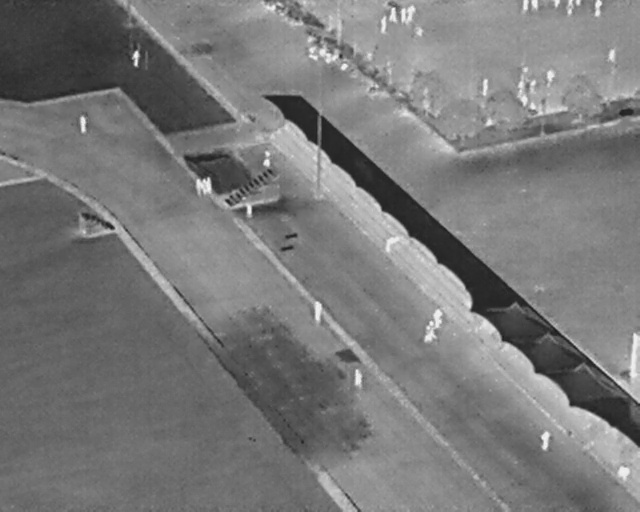DontCare: (304, 33, 351, 72), (514, 63, 539, 109)
Person: (313, 299, 323, 324), (541, 429, 551, 451), (433, 306, 443, 328), (428, 319, 438, 339), (354, 367, 363, 388), (407, 3, 416, 23), (262, 148, 271, 167), (547, 66, 556, 85), (607, 47, 616, 64), (594, 0, 603, 17), (132, 48, 140, 67), (566, 0, 574, 16), (80, 114, 87, 132), (390, 6, 397, 23), (196, 177, 202, 196), (381, 15, 387, 34), (482, 77, 488, 96), (246, 201, 253, 217), (425, 325, 431, 342), (400, 6, 406, 23), (207, 176, 212, 193), (202, 178, 207, 194), (531, 0, 539, 10), (522, 0, 529, 11), (553, 0, 561, 8), (575, 0, 581, 6)
